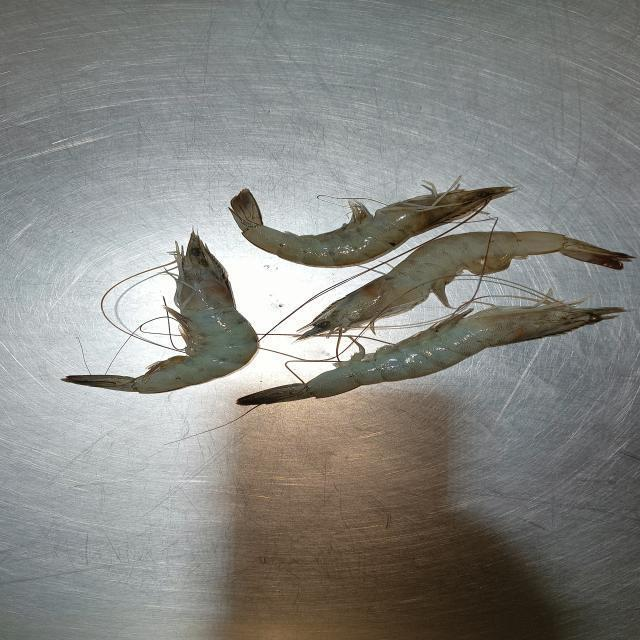shrimp: (237, 303, 625, 403), (295, 232, 632, 337), (66, 232, 257, 391), (231, 184, 511, 265)
